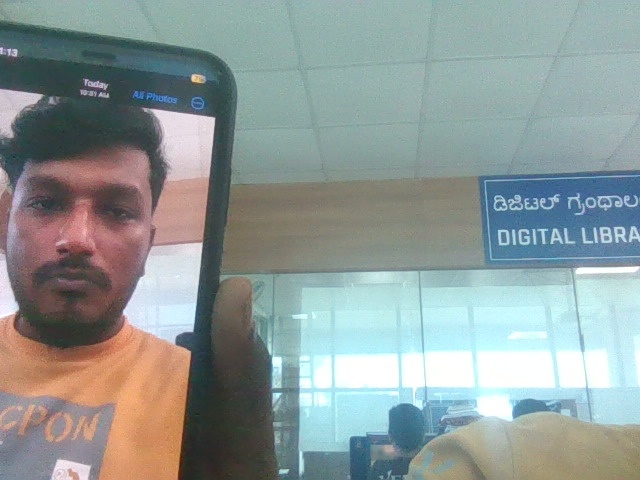fake: (0, 59, 202, 346)
